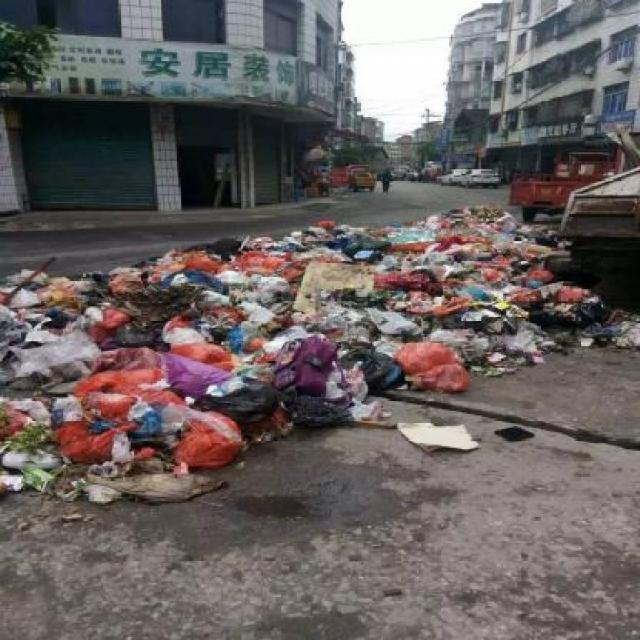garbage: (5, 260, 302, 508), (302, 220, 552, 458), (568, 268, 640, 346)
